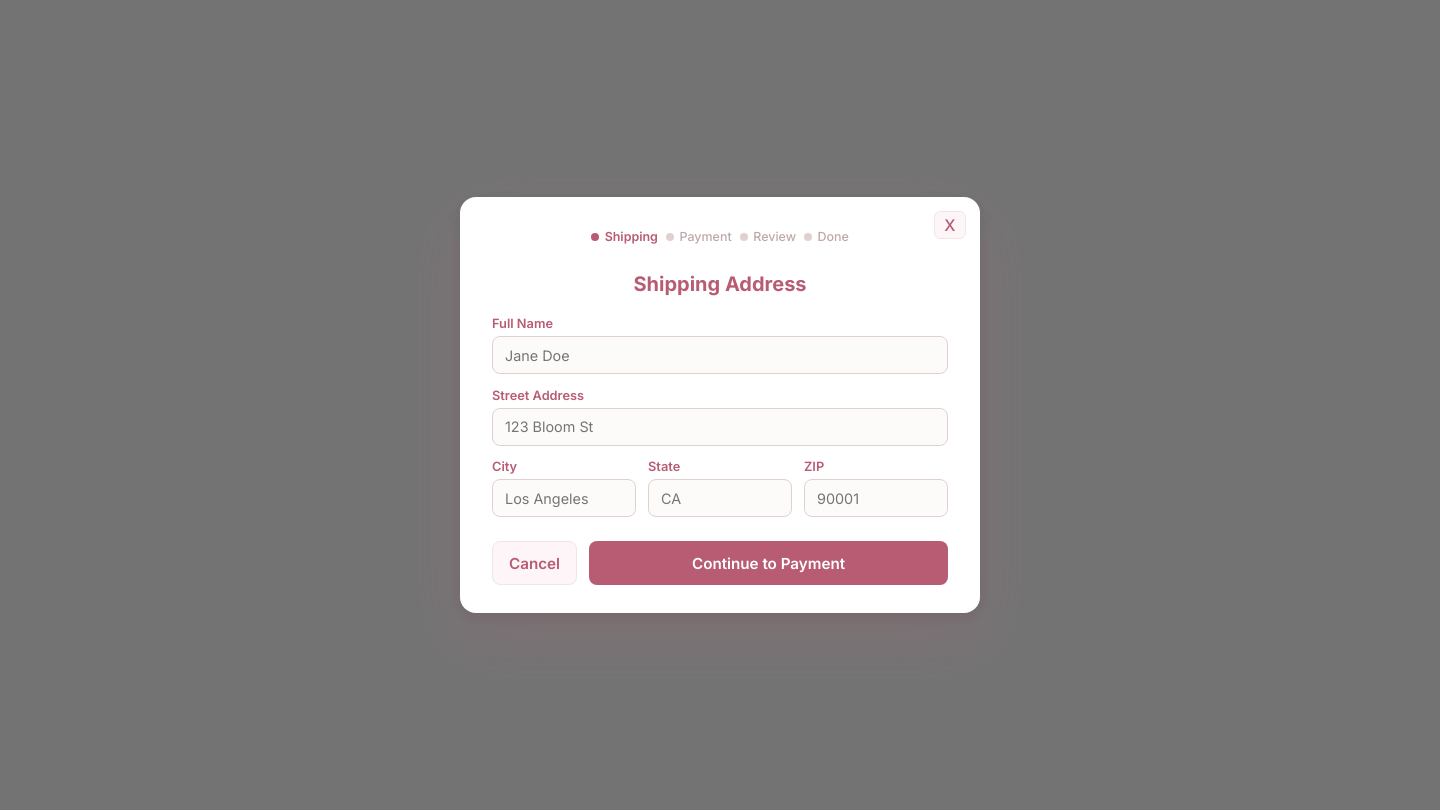
Test case: CheckoutModal › navigates back from payment to shipping
The width and height of the screenshot is (1440, 810).
Click the button "Continue to Payment" at (768, 563), box x1=589 y1=541 x2=948 y2=585
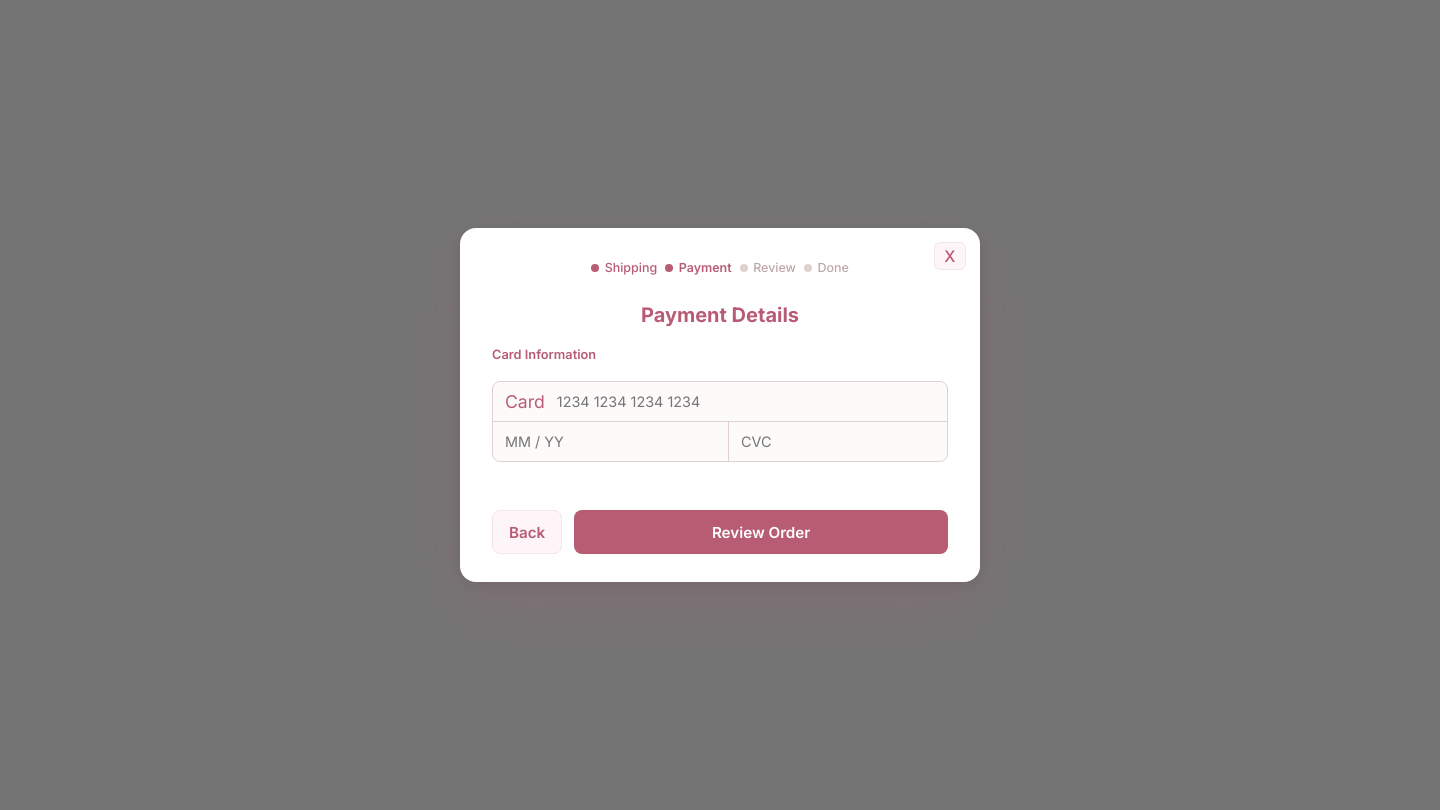
Click the button "Back" at (527, 532), box x1=492 y1=510 x2=562 y2=554
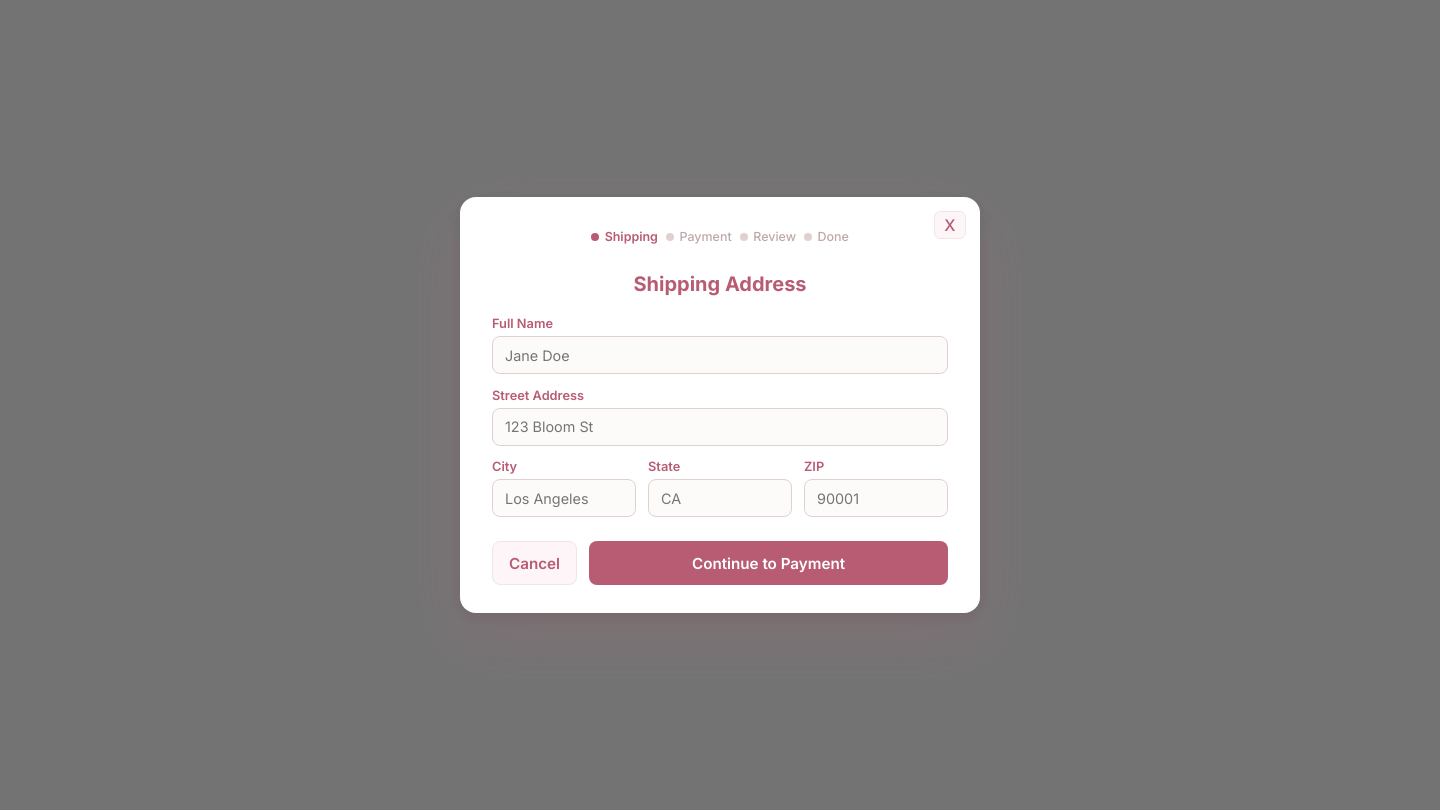
Expected: the heading "Shipping Address" is shown, x1=634 y1=272 x2=807 y2=296
